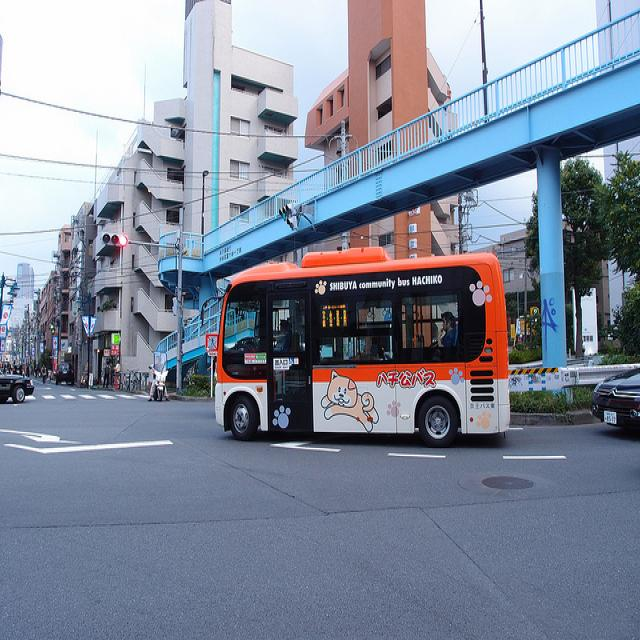motor: (151, 368, 170, 401)
